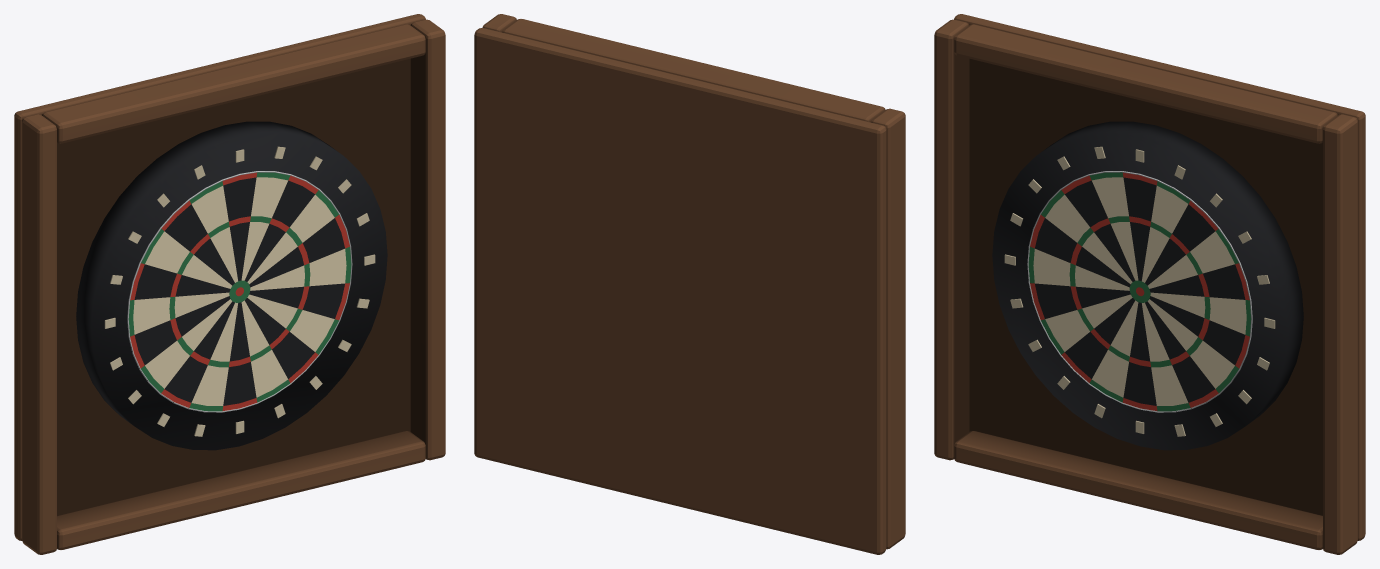
Rendered from dartboard.glb.
3 renders of one model, left to right at view 1: azimuth 30°, elevation 25°; view 2: azimuth 150°, elevation 25°; view 3: azimuth 330°, elevation 25°, orthographic.
Visible parts, largest first — view 1: body; view 2: body; view 3: body.
Boxes of the visible parts, x1,y1,x2,y2 form: body: [14, 14, 445, 554]; body: [474, 14, 905, 554]; body: [934, 14, 1365, 554].
Size of the model in its own units: 0.62 by 0.62 by 0.07.
